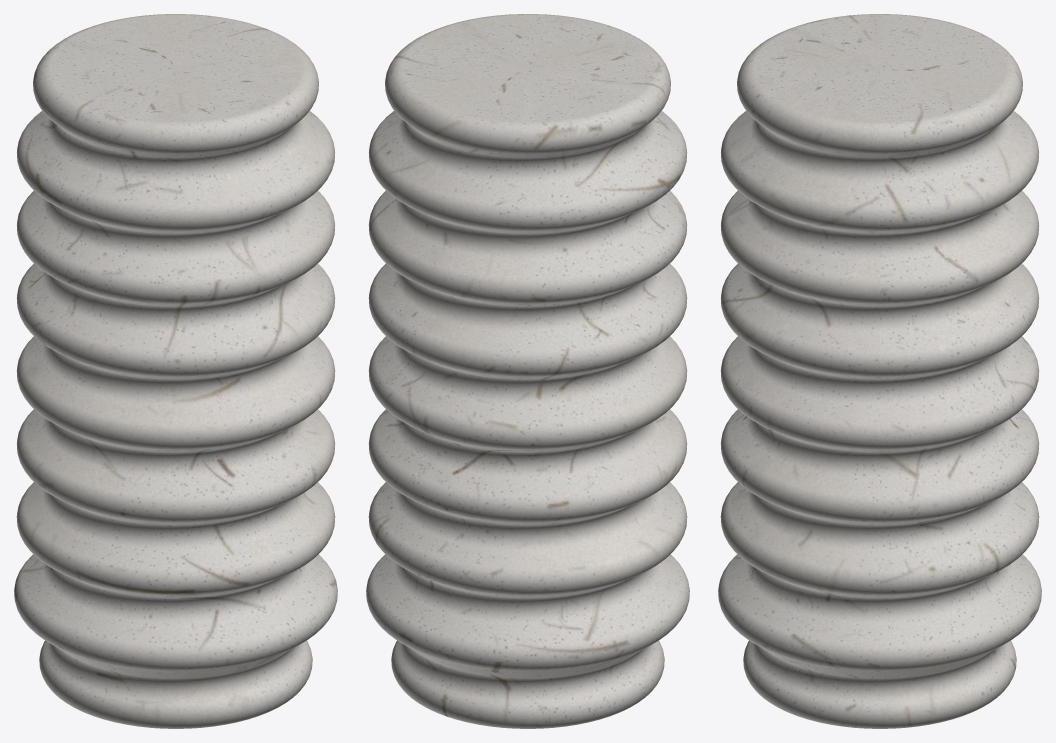
File: screw2.gltf
3 views of the same model, side by side, from view 1: azimuth 30°, elevation 25°; view 2: azimuth 150°, elevation 25°; view 3: azimuth 270°, elevation 25° (orthographic).
Size of the model in its own units: 0.0779 by 0.1615 by 0.0779.
1 material, 1 textured.
